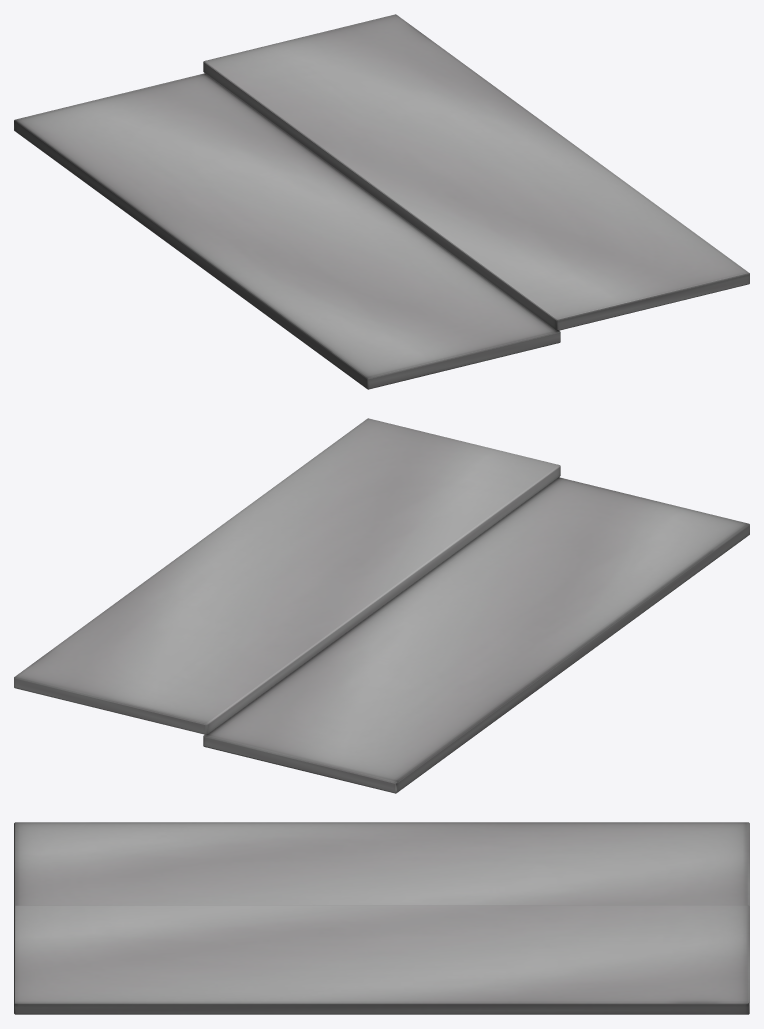
File: aws_robomaker_hospital_elevator_01_door_visual.dae
3 renders of one model, top to bottom at view 1: azimuth 30°, elevation 25°; view 2: azimuth 150°, elevation 25°; view 3: azimuth 270°, elevation 25°, orthographic. The views are drawn at different scales.
Visible parts, largest first — view 1: aws_robomaker_hospital_elevator_01_door_visual; view 2: aws_robomaker_hospital_elevator_01_door_visual; view 3: aws_robomaker_hospital_elevator_01_door_visual.
Boxes of the visible parts, x1,y1,x2,y2 form: aws_robomaker_hospital_elevator_01_door_visual: (14, 14, 749, 389); aws_robomaker_hospital_elevator_01_door_visual: (14, 418, 749, 793); aws_robomaker_hospital_elevator_01_door_visual: (14, 822, 749, 1014).
Size of the model in its own units: 142 by 8.51 by 227.
1 material, 1 textured.
